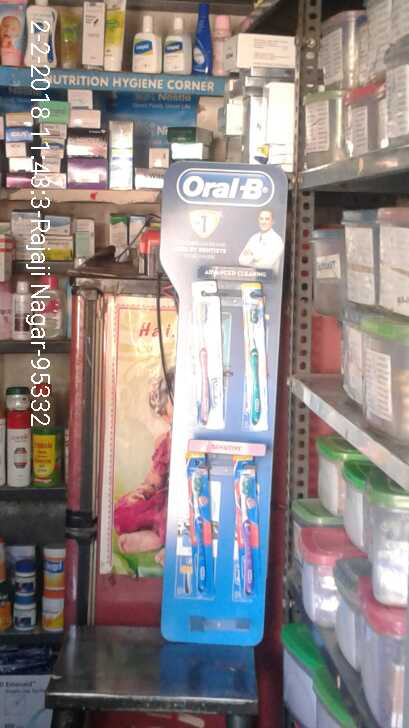oralb: (231, 468, 275, 595), (182, 469, 218, 612)
